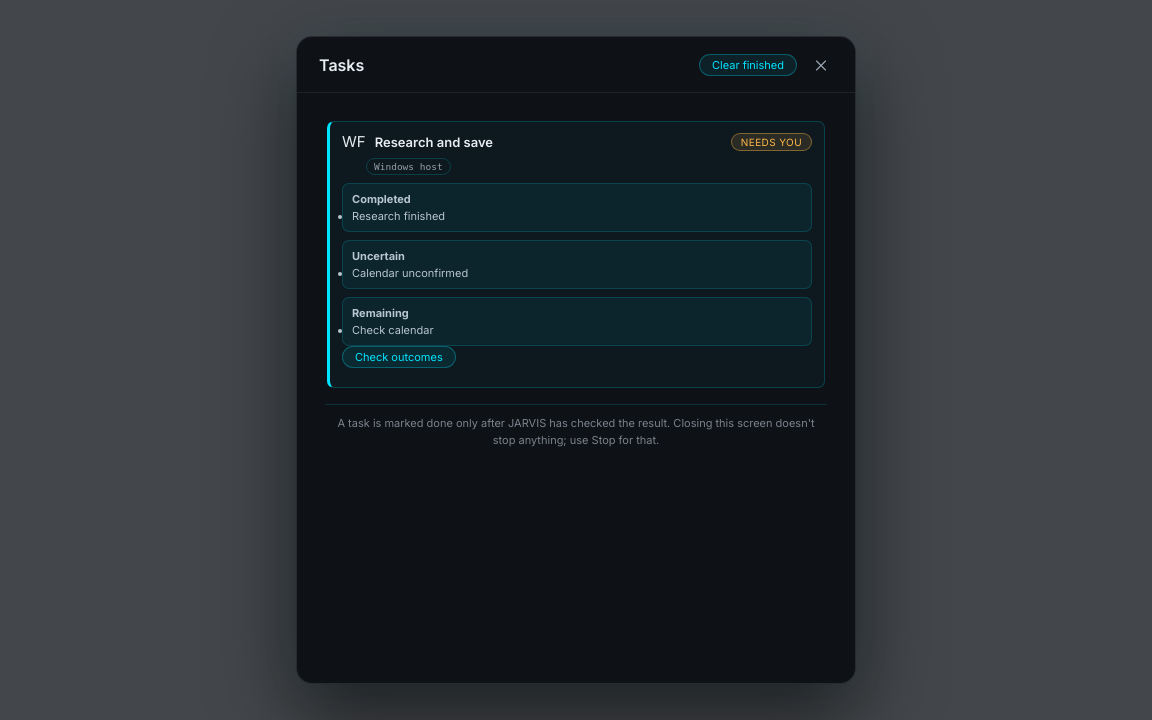
it: shows recovery facts and enables continuation only after the backend permits it
Click the button "Check outcomes" at coordinates (399, 357), box [342,346,456,368]
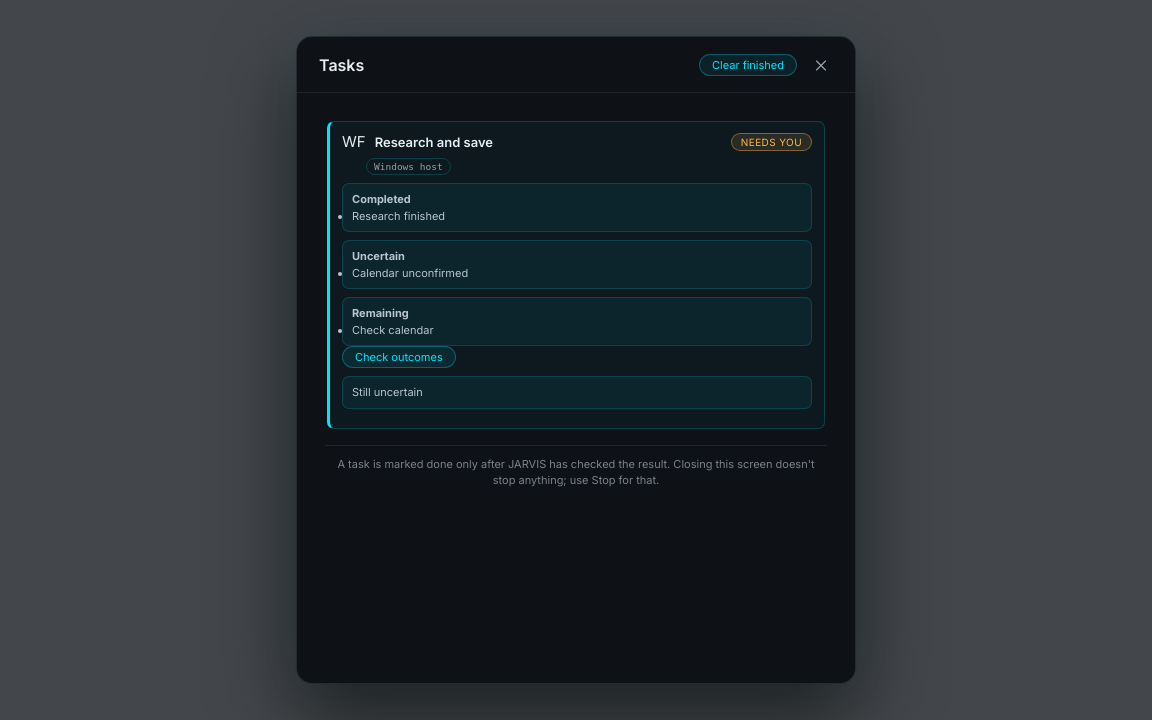
Click the button "Check outcomes" at coordinates (399, 357), box [342,346,456,368]
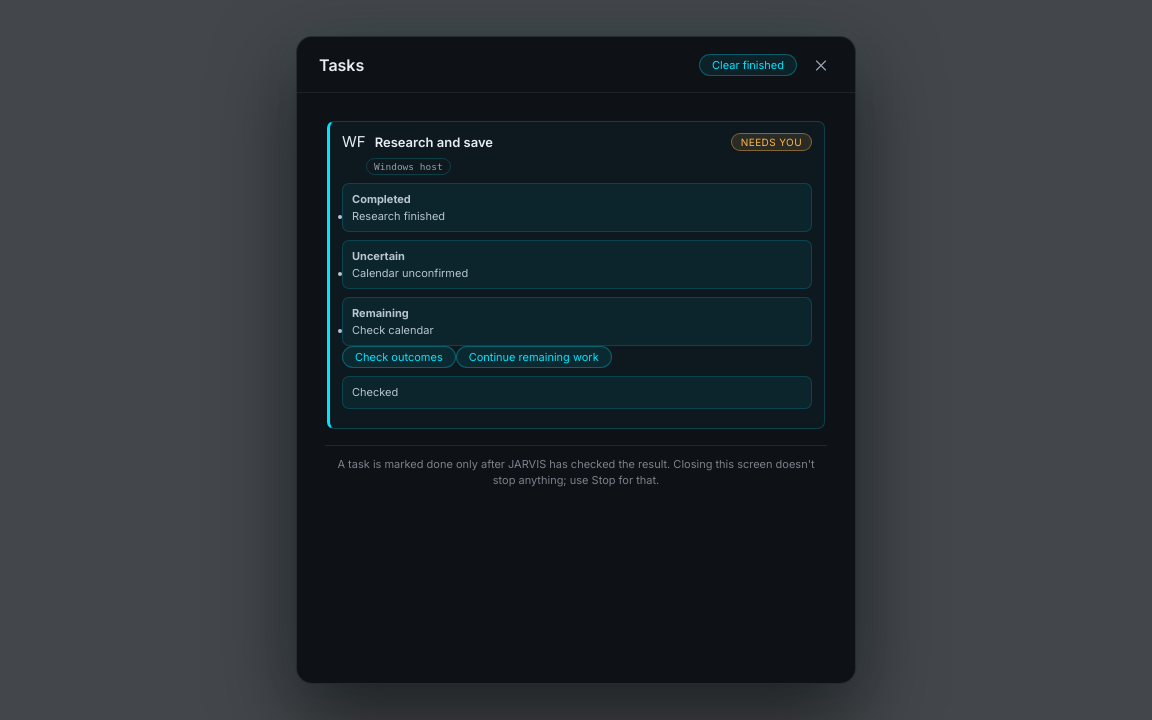
Click the button "Continue remaining work" at coordinates (534, 357), box [456,346,612,368]
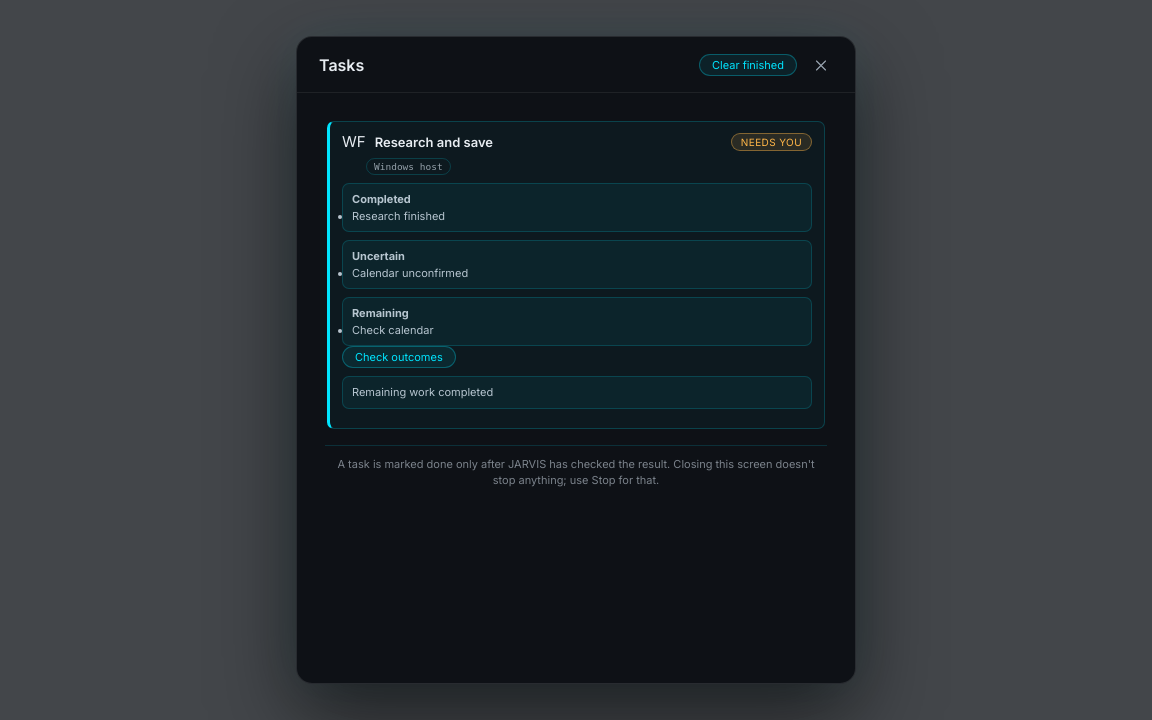
Now the text "Remaining work completed" is shown, box [342,376,812,408]
